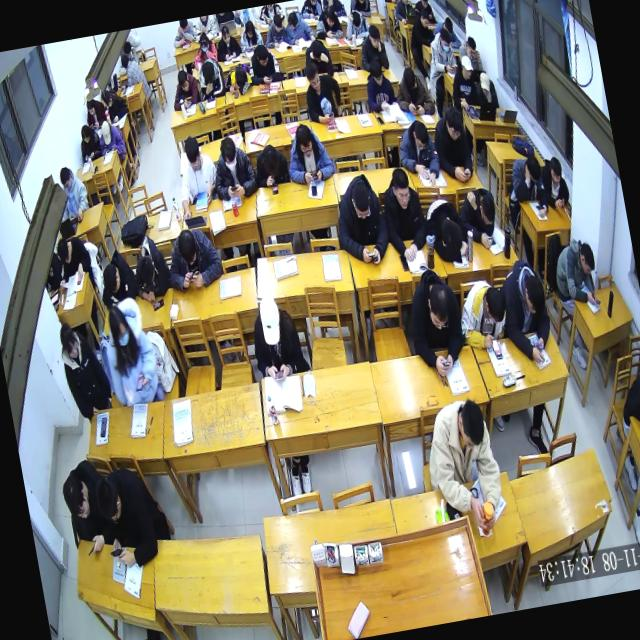bow: (420, 190, 474, 267), (124, 230, 174, 306), (92, 245, 140, 315), (504, 152, 550, 223), (456, 182, 502, 252), (250, 139, 291, 189), (192, 54, 226, 102), (300, 36, 336, 80), (167, 65, 200, 111), (403, 8, 436, 52), (311, 3, 343, 42), (221, 62, 255, 98), (342, 7, 372, 42), (168, 18, 196, 48)
down: (454, 397, 489, 452), (58, 472, 93, 524), (422, 280, 454, 334), (92, 474, 124, 526), (256, 292, 284, 347), (520, 270, 549, 320), (104, 304, 132, 351), (482, 282, 508, 328), (175, 226, 200, 270), (348, 182, 374, 222), (58, 321, 82, 364), (293, 120, 317, 160), (442, 102, 465, 143), (182, 132, 204, 174), (258, 143, 282, 180), (134, 253, 158, 290), (217, 134, 240, 172), (476, 190, 498, 228), (99, 260, 122, 296), (576, 240, 597, 278), (410, 118, 432, 152), (302, 58, 322, 92), (524, 153, 543, 186), (53, 236, 73, 266), (198, 56, 217, 86), (57, 164, 75, 194), (367, 58, 385, 88), (547, 154, 564, 185), (401, 64, 418, 94), (253, 43, 271, 70), (232, 65, 250, 90), (366, 23, 382, 51), (438, 26, 454, 54), (309, 37, 326, 63), (98, 120, 114, 146), (478, 70, 492, 98), (284, 8, 300, 32), (175, 67, 190, 92), (323, 3, 338, 28), (465, 34, 478, 58), (418, 8, 432, 30), (271, 11, 284, 34), (84, 96, 98, 117), (243, 18, 256, 40), (78, 123, 91, 144), (219, 23, 232, 44), (198, 32, 210, 54), (350, 10, 363, 30), (102, 88, 114, 109), (419, 0, 430, 9)
lookup: (388, 164, 413, 210), (459, 54, 475, 80), (398, 0, 409, 5)
sit: (416, 389, 508, 536), (91, 459, 169, 576), (94, 293, 164, 412), (399, 263, 469, 382), (493, 253, 558, 369), (54, 314, 116, 426), (327, 169, 394, 270), (244, 286, 308, 386), (56, 455, 116, 561), (375, 162, 432, 265), (169, 128, 224, 222), (162, 219, 226, 297), (453, 276, 514, 352), (427, 102, 477, 188), (548, 234, 603, 312), (280, 116, 336, 189), (393, 114, 444, 192), (206, 132, 261, 204), (298, 56, 346, 129), (52, 231, 96, 292), (52, 160, 92, 225), (392, 60, 436, 119), (360, 56, 398, 117), (354, 20, 391, 76), (538, 154, 572, 213), (446, 54, 480, 112), (424, 24, 460, 77), (244, 41, 284, 88), (615, 366, 640, 432), (282, 6, 316, 48), (188, 29, 220, 72), (95, 116, 127, 158), (76, 121, 104, 166), (212, 22, 242, 62), (260, 11, 290, 51), (101, 84, 130, 124), (235, 16, 265, 54), (473, 70, 500, 112), (456, 34, 484, 74), (82, 92, 108, 131), (118, 49, 145, 85), (390, 0, 415, 25), (412, 0, 436, 23)
